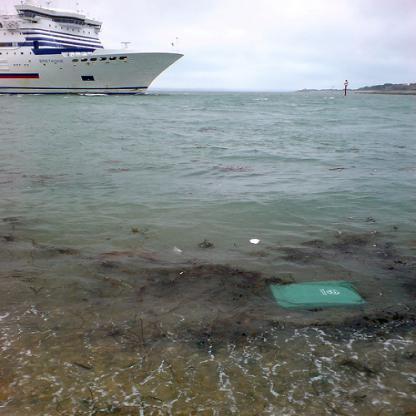boat: (0, 2, 187, 98)
